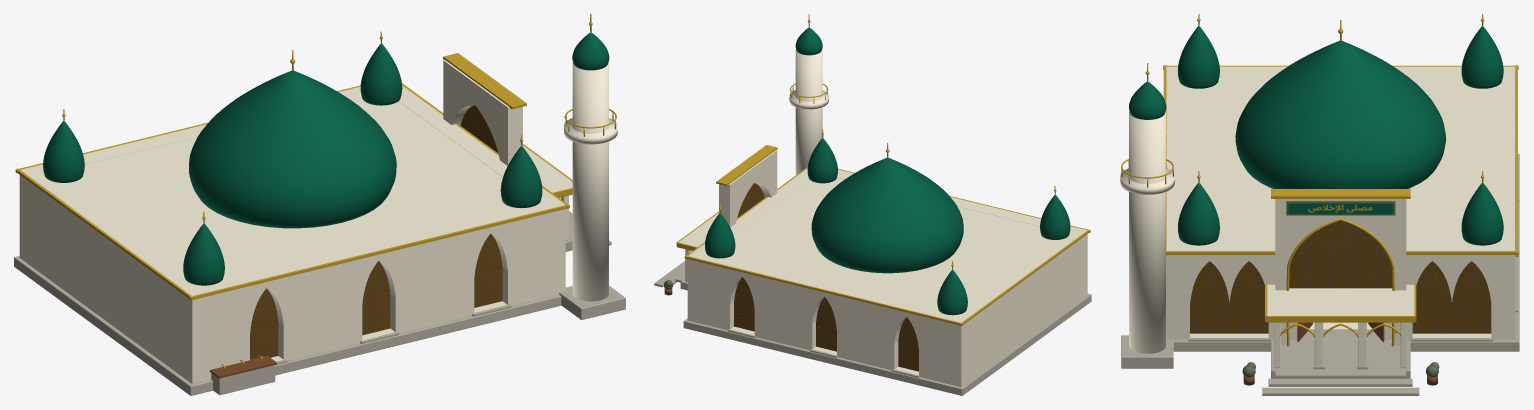
File: surau-v2.glb
3 renders of one model, left to right at view 1: azimuth 30°, elevation 25°; view 2: azimuth 150°, elevation 25°; view 3: azimuth 270°, elevation 25°, orthographic. The views are drawn at different scales.
Visible parts, largest first — view 1: SR_DindingSelatan, SR_Atap, SR_KubahUtama, SR_DindingBarat, SR_MenaraBadan, SR_AlasBatu, SR_BlokPortal, SR_DindingUtara, SR_DindingTimur, SR_KubahKecil.003, SR_KubahKecil, SR_KubahKecil.001 (+14 smaller); view 2: SR_DindingUtara, SR_Atap, SR_KubahUtama, SR_DindingBarat, SR_AlasBatu, SR_MenaraBadan, SR_BlokPortal, SR_DindingSelatan, SR_DindingTimur, SR_KubahKecil.001, SR_KubahKecil.002, SR_KubahKecil.003 (+11 smaller); view 3: SR_KubahUtama, SR_Atap, SR_MenaraBadan, SR_DindingTimur, SR_KisiPortal, SR_DindingUtara, SR_DindingSelatan, SR_BlokPortal, SR_SerambiAtap, SR_SerambiLantai, SR_AlasBatu, SR_KisiJendela.003 (+23 smaller).
Part boxes in pixels (x1=…): SR_DindingSelatan: x1=181, y1=197, x2=565, y2=383; SR_Atap: x1=63, y1=97, x2=512, y2=277; SR_KubahUtama: x1=189, y1=70, x2=396, y2=228; SR_DindingBarat: x1=30, y1=174, x2=194, y2=375; SR_MenaraBadan: x1=572, y1=62, x2=608, y2=301; SR_AlasBatu: x1=14, y1=256, x2=561, y2=395; SR_BlokPortal: x1=443, y1=60, x2=522, y2=165; SR_DindingUtara: x1=19, y1=85, x2=403, y2=264; SR_DindingTimur: x1=399, y1=86, x2=554, y2=200; SR_KubahKecil.003: x1=360, y1=43, x2=402, y2=105; SR_KubahKecil: x1=183, y1=223, x2=224, y2=285; SR_KubahKecil.001: x1=500, y1=145, x2=542, y2=208; SR_DindingUtara: x1=687, y1=250, x2=969, y2=386; SR_Atap: x1=726, y1=177, x2=1055, y2=309; SR_KubahUtama: x1=811, y1=157, x2=963, y2=273; SR_DindingBarat: x1=959, y1=234, x2=1079, y2=380; SR_AlasBatu: x1=683, y1=293, x2=1091, y2=395; SR_MenaraBadan: x1=795, y1=49, x2=822, y2=174; SR_BlokPortal: x1=719, y1=150, x2=777, y2=227; SR_DindingSelatan: x1=806, y1=168, x2=1087, y2=300; SR_DindingTimur: x1=696, y1=169, x2=809, y2=252; SR_KubahKecil.001: x1=807, y1=137, x2=837, y2=183; SR_KubahKecil.002: x1=937, y1=269, x2=967, y2=315; SR_KubahKecil.003: x1=705, y1=213, x2=735, y2=258; SR_KubahUtama: x1=1235, y1=40, x2=1445, y2=188; SR_Atap: x1=1188, y1=76, x2=1493, y2=241; SR_MenaraBadan: x1=1129, y1=111, x2=1165, y2=353; SR_DindingTimur: x1=1188, y1=242, x2=1493, y2=339; SR_KisiPortal: x1=1289, y1=220, x2=1392, y2=288; SR_DindingUtara: x1=1493, y1=66, x2=1515, y2=339; SR_DindingSelatan: x1=1166, y1=66, x2=1187, y2=339; SR_BlokPortal: x1=1275, y1=199, x2=1406, y2=345; SR_SerambiAtap: x1=1267, y1=284, x2=1414, y2=315; SR_SerambiLantai: x1=1271, y1=339, x2=1410, y2=378; SR_AlasBatu: x1=1173, y1=154, x2=1519, y2=351; SR_KisiJendela.003: x1=1452, y1=261, x2=1491, y2=333.
Bounding box in the file's own units: 25.2 × 15.55 × 18.3.
Materials: 20 (2 with a texture image).
